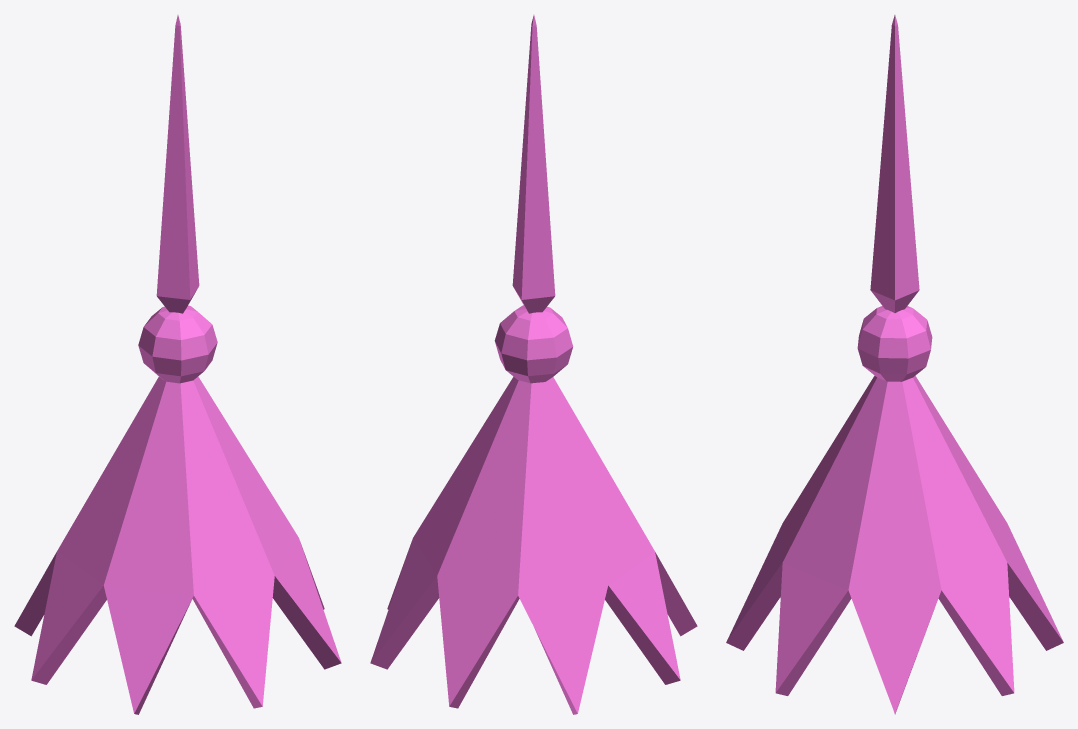
Rendered from SM_Roof_Finial_Round_A_Fantasy.fbx.
The picture shows the model from 3 angles, left to right: view 1: azimuth 30°, elevation 25°; view 2: azimuth 150°, elevation 25°; view 3: azimuth 270°, elevation 25°; orthographic projection.
Visible parts, largest first — view 1: SM_Roof_Finial_Round_A_Fantasy; view 2: SM_Roof_Finial_Round_A_Fantasy; view 3: SM_Roof_Finial_Round_A_Fantasy.
Boxes of the visible parts, box(x1,y1,x2,y2) form: SM_Roof_Finial_Round_A_Fantasy: box(14, 15, 341, 714); SM_Roof_Finial_Round_A_Fantasy: box(370, 15, 697, 714); SM_Roof_Finial_Round_A_Fantasy: box(726, 15, 1063, 714).
Size of the model in its own units: 1.7 by 3.53 by 1.7.
